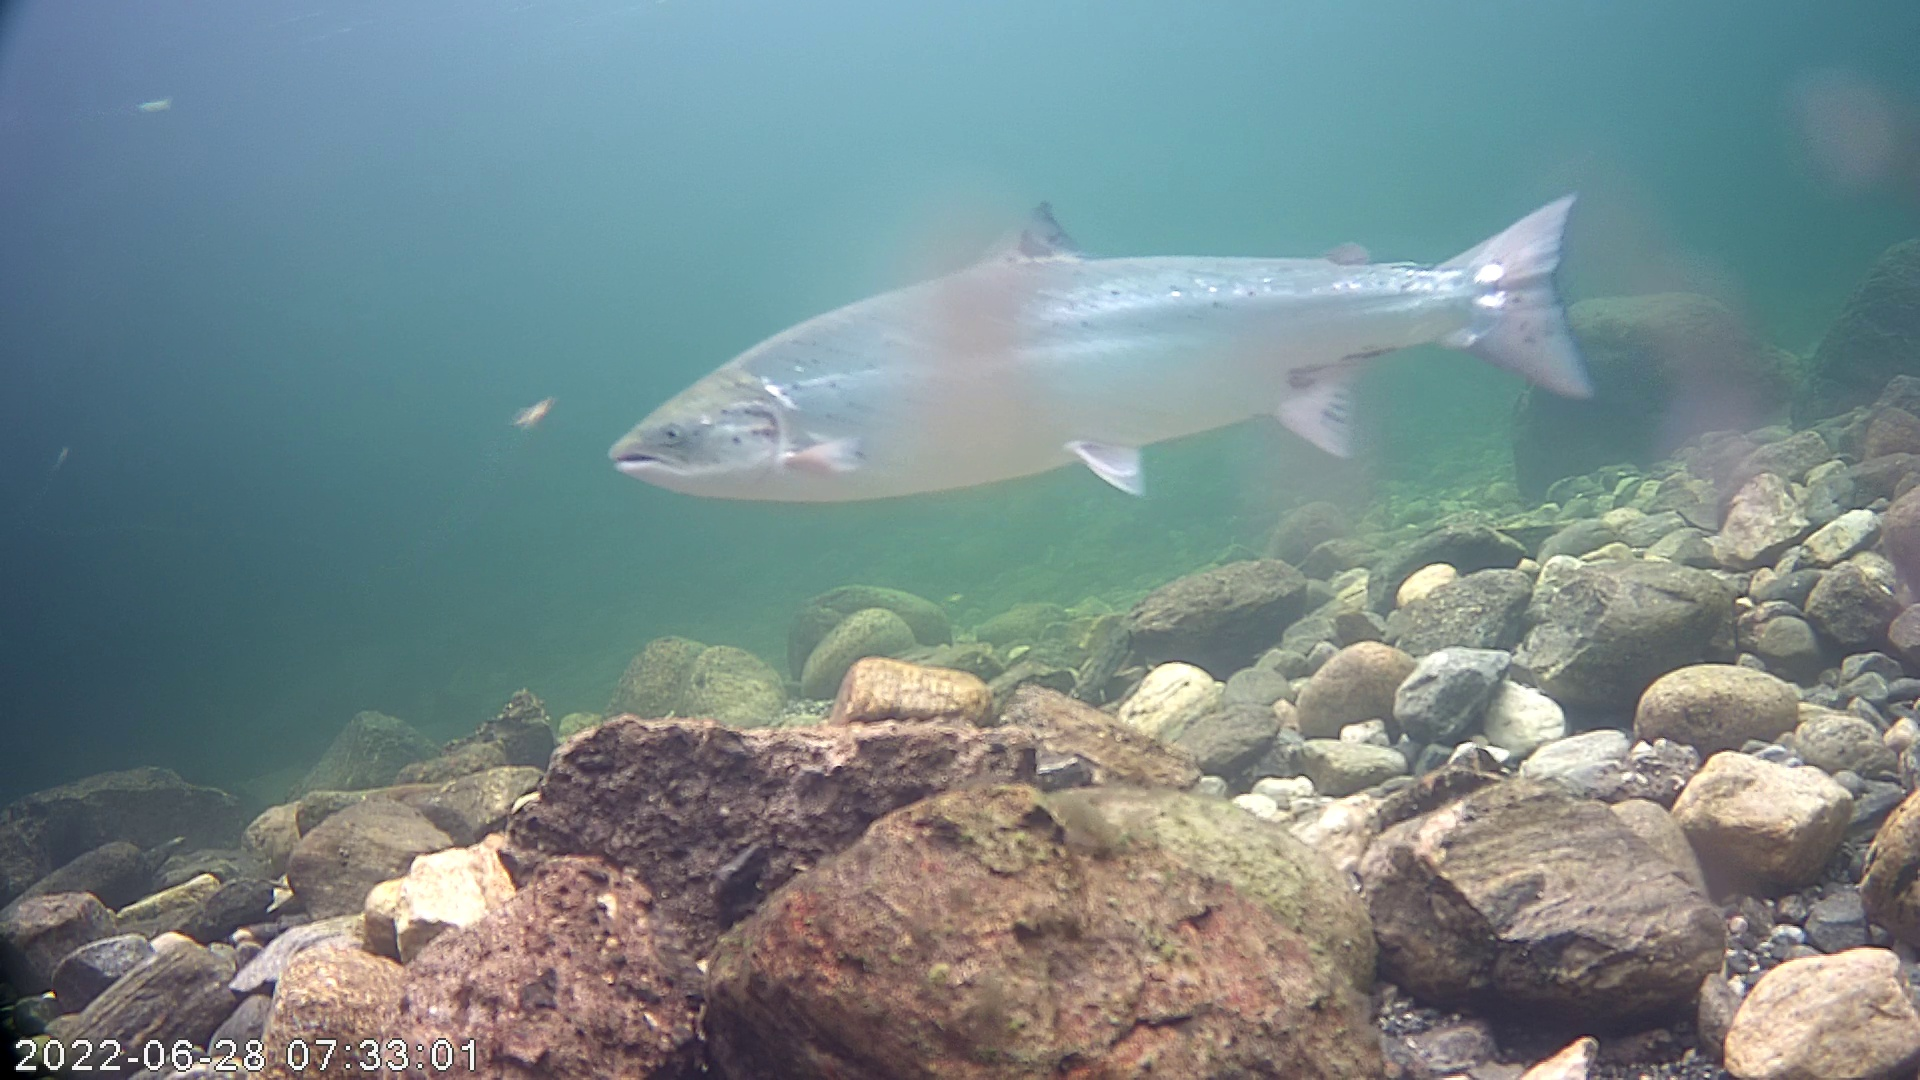salmon: (585, 111, 1619, 556)
